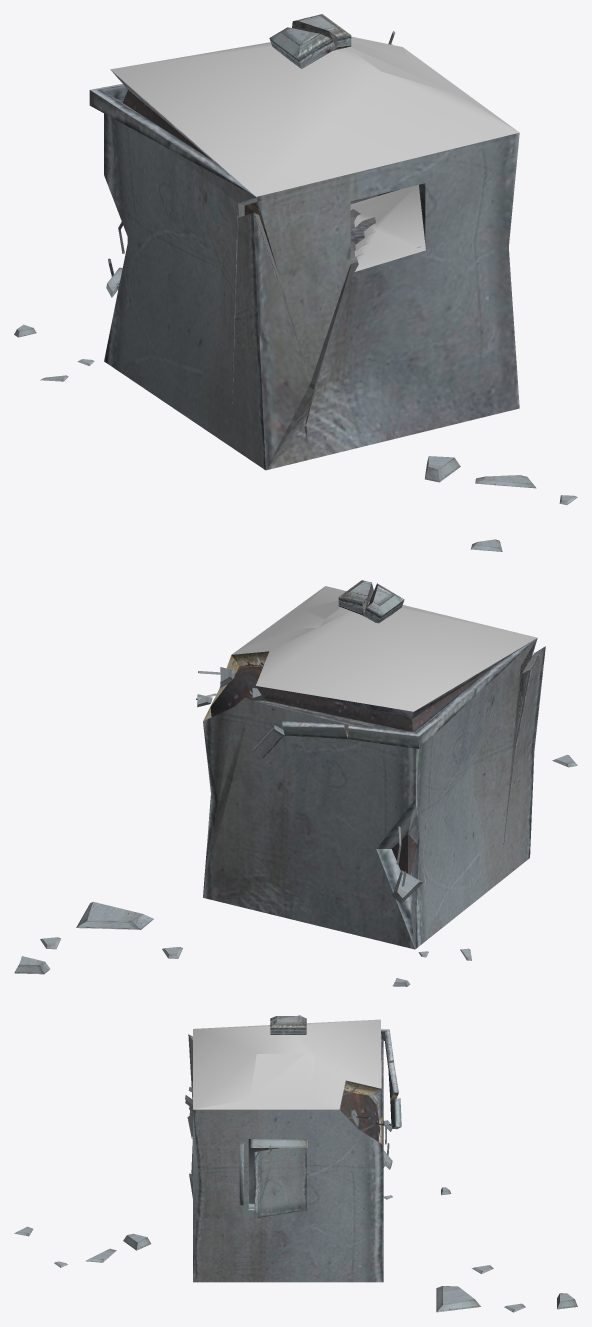
The model's file is Air_vent_house1.fbx.
The picture shows the model from 3 angles, top to bottom: view 1: azimuth 30°, elevation 25°; view 2: azimuth 150°, elevation 25°; view 3: azimuth 270°, elevation 25°; orthographic projection. The views are drawn at different scales.
Visible parts, largest first — view 1: Air_vent_house1; view 2: Air_vent_house1; view 3: Air_vent_house1.
Boxes of the visible parts, x1,y1,x2,y2 form: Air_vent_house1: [14, 14, 577, 551]; Air_vent_house1: [14, 580, 577, 986]; Air_vent_house1: [14, 1015, 577, 1312].
Size of the model in its own units: 539 by 430 by 978.
